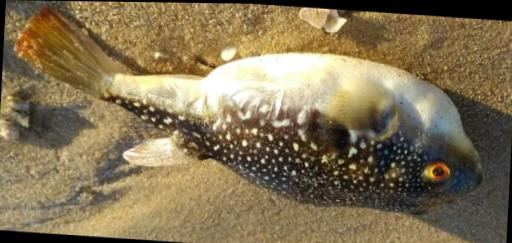fish: (14, 5, 485, 214)
